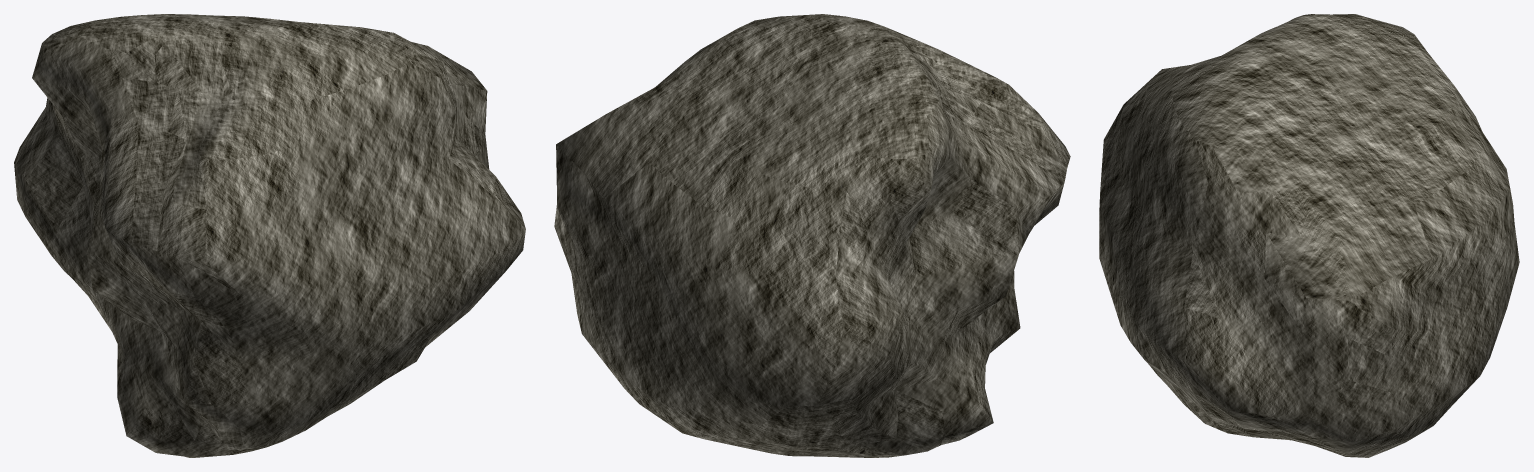
File: asteroid003.FBX
3 renders of one model, left to right at view 1: azimuth 30°, elevation 25°; view 2: azimuth 150°, elevation 25°; view 3: azimuth 270°, elevation 25°, orthographic. The views are drawn at different scales.
Visible parts, largest first — view 1: Sphere001; view 2: Sphere001; view 3: Sphere001.
Part boxes in pixels (<box>): Sphere001: <box>14,14,525,457</box>; Sphere001: <box>554,14,1070,457</box>; Sphere001: <box>1099,14,1519,457</box>.
Size of the model in its own units: 22.31 by 20 by 20.22.
